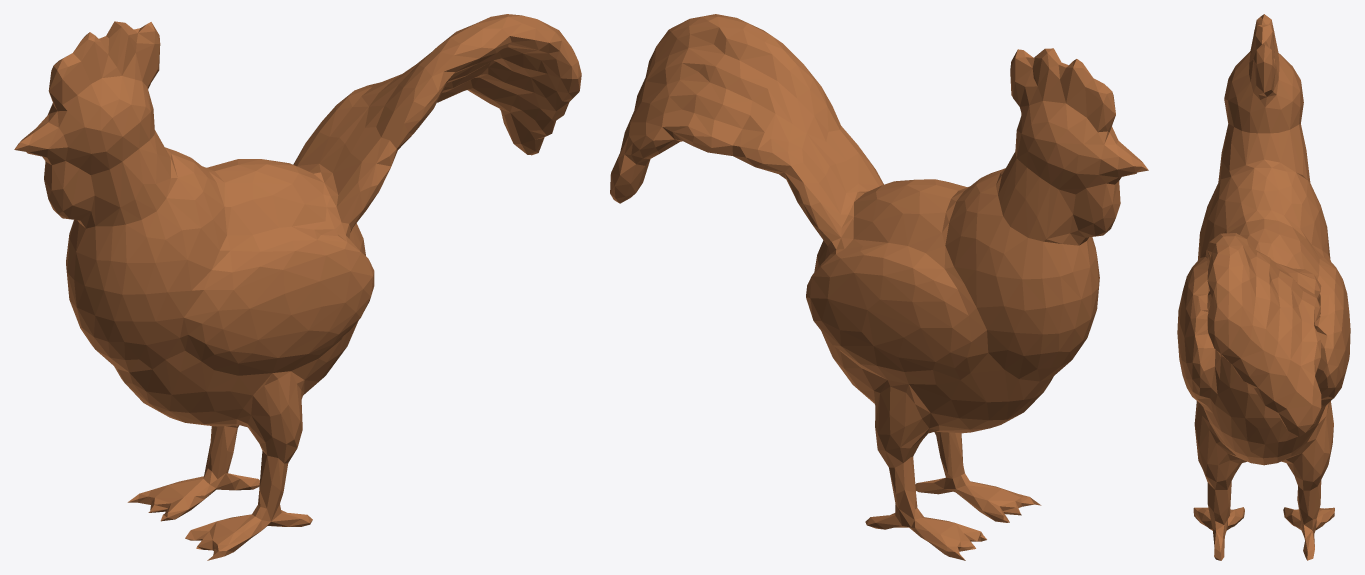
File: NEW_RECOVERY_030_LOD0.fbx
3 renders of one model, left to right at view 1: azimuth 30°, elevation 25°; view 2: azimuth 150°, elevation 25°; view 3: azimuth 270°, elevation 25°, orthographic. The views are drawn at different scales.
Visible parts, largest first — view 1: Rooster_Solid; view 2: Rooster_Solid; view 3: Rooster_Solid.
Part boxes in pixels (x1,y1,x2,y2): Rooster_Solid: [14, 14, 581, 560]; Rooster_Solid: [610, 14, 1148, 560]; Rooster_Solid: [1177, 14, 1350, 560].
Size of the model in its own units: 276 by 85.65 by 253.
